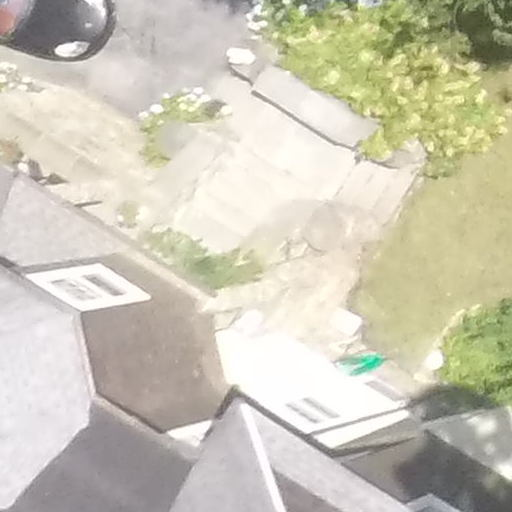hose: (332, 337, 398, 384)
